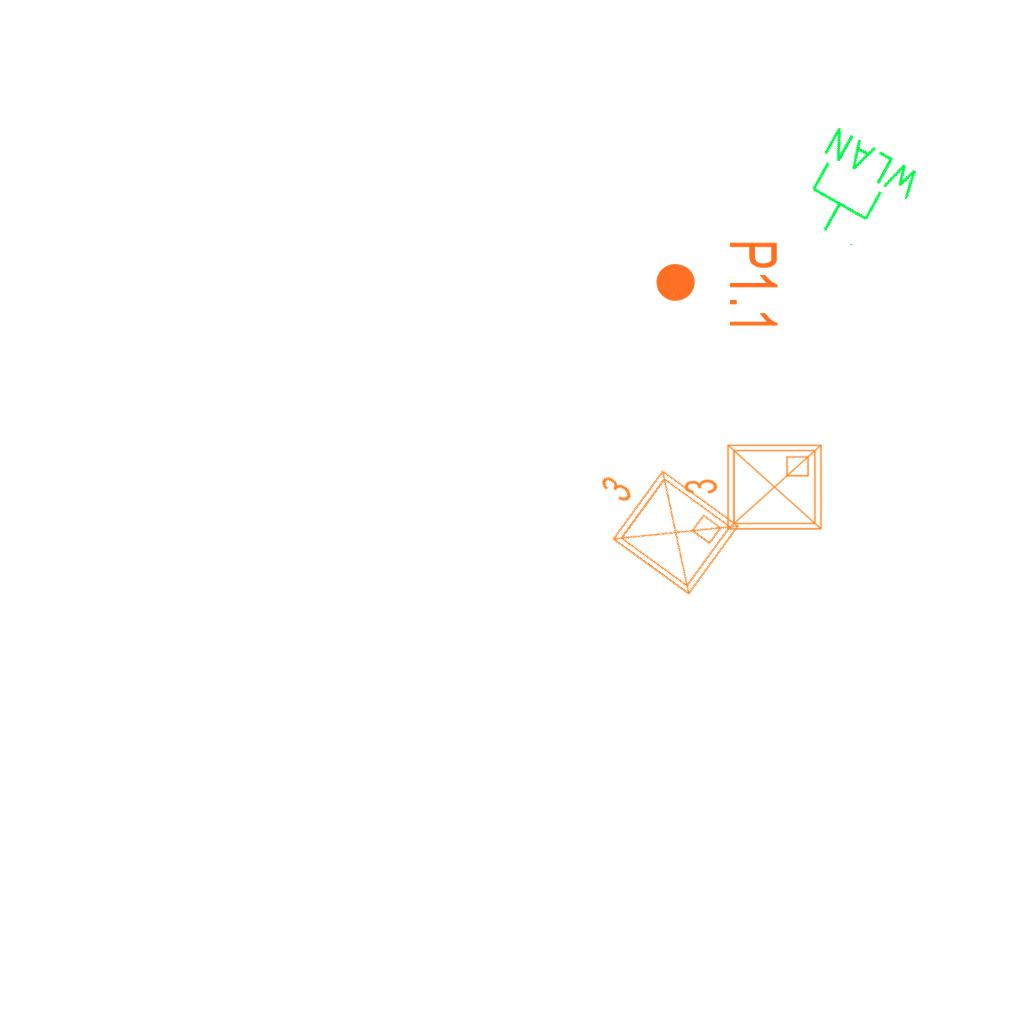Downlight_LED_Einbauleuchten_Flur: (653, 239, 781, 332)
Einbaudownlights_LED_Konferenzraeume: (566, 435, 750, 609), (679, 437, 829, 541)
WLAN: (785, 121, 929, 264)
